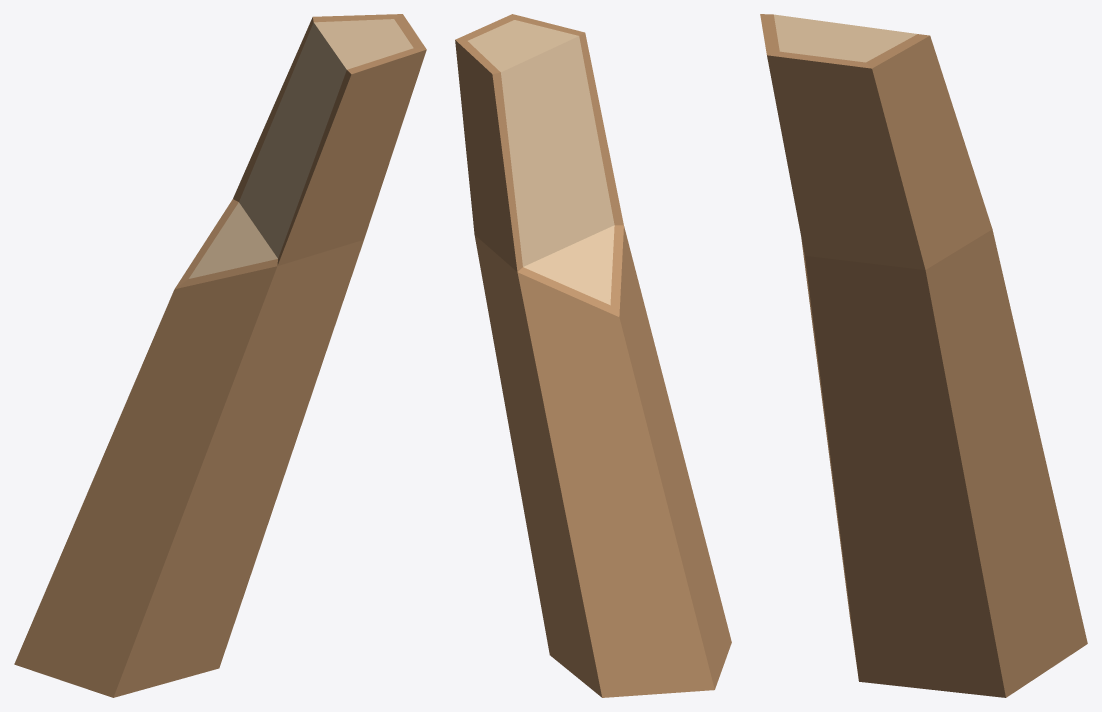
File: Palm_Stump_02.fbx
3 views of the same model, side by side, from view 1: azimuth 30°, elevation 25°; view 2: azimuth 150°, elevation 25°; view 3: azimuth 270°, elevation 25° (orthographic). The views are drawn at different scales.
Visible parts, largest first — view 1: Palm_Stump_02; view 2: Palm_Stump_02; view 3: Palm_Stump_02.
Part boxes in pixels (x1,y1,x2,y2): Palm_Stump_02: [14, 14, 426, 697]; Palm_Stump_02: [455, 14, 731, 697]; Palm_Stump_02: [760, 14, 1087, 697].
Bounding box in the file's own units: 75.78 × 129 × 53.02.
